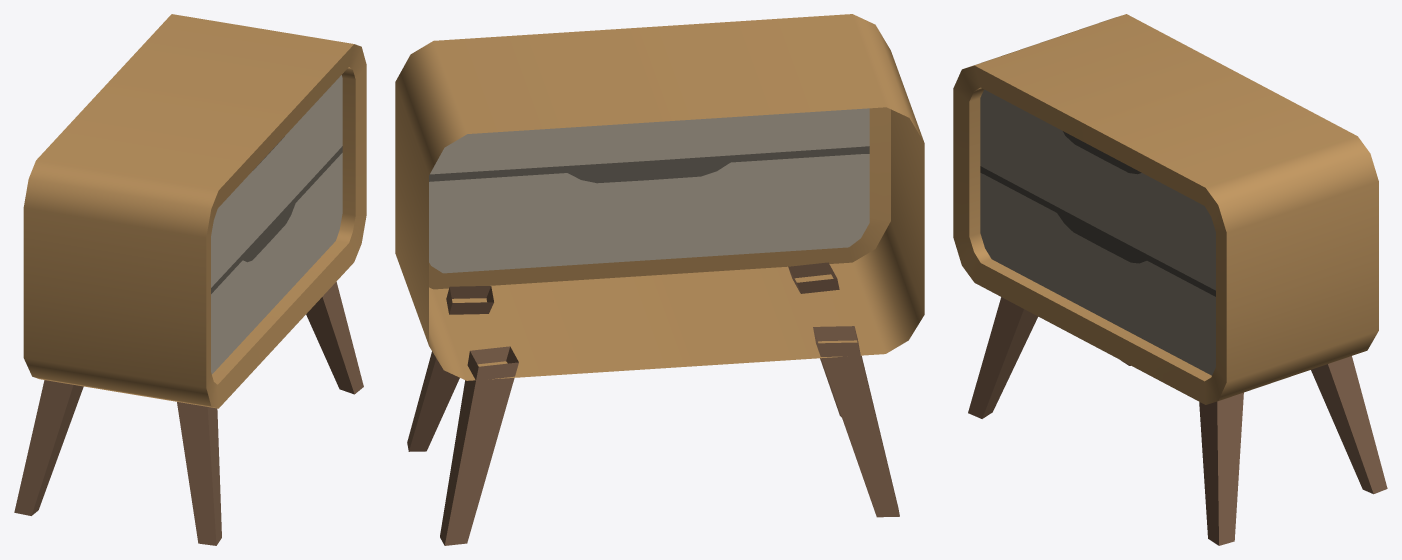
File: MSH_QuestObject_cabinet_14.fbx
3 views of the same model, side by side, from view 1: azimuth 30°, elevation 25°; view 2: azimuth 150°, elevation 25°; view 3: azimuth 270°, elevation 25° (orthographic). The views are drawn at different scales.
Visible parts, largest first — view 1: MSH_QuestObject_cabinet_14; view 2: MSH_QuestObject_cabinet_14; view 3: MSH_QuestObject_cabinet_14.
Part boxes in pixels (x1=…): MSH_QuestObject_cabinet_14: x1=14, y1=14, x2=366, y2=545; MSH_QuestObject_cabinet_14: x1=395, y1=14, x2=924, y2=545; MSH_QuestObject_cabinet_14: x1=953, y1=14, x2=1387, y2=545.
Bounding box in the file's own units: 2.14 × 1.78 × 2.01.
